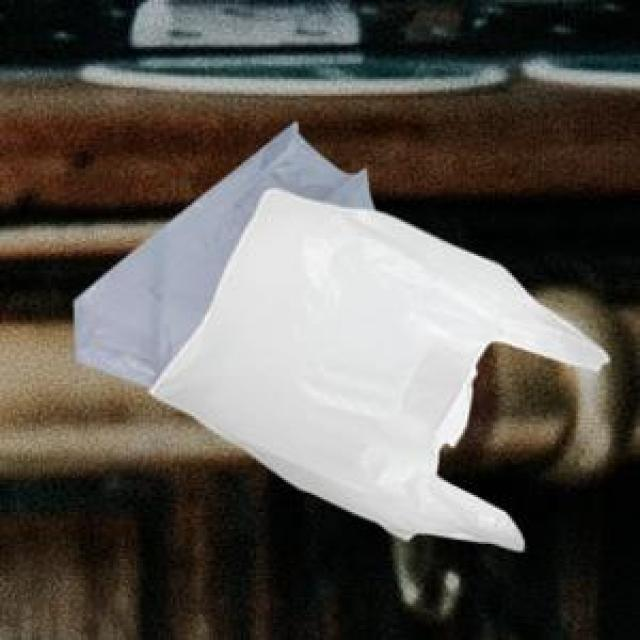waste: (76, 122, 606, 551)
